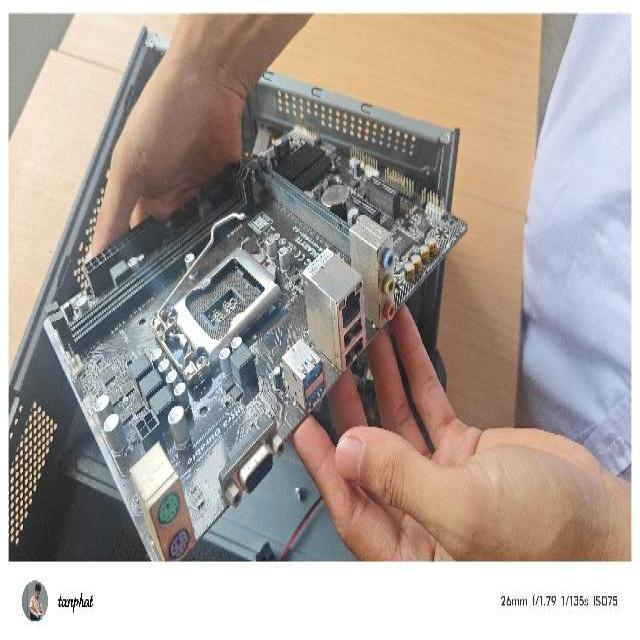Mainboard: (41, 112, 470, 561)
